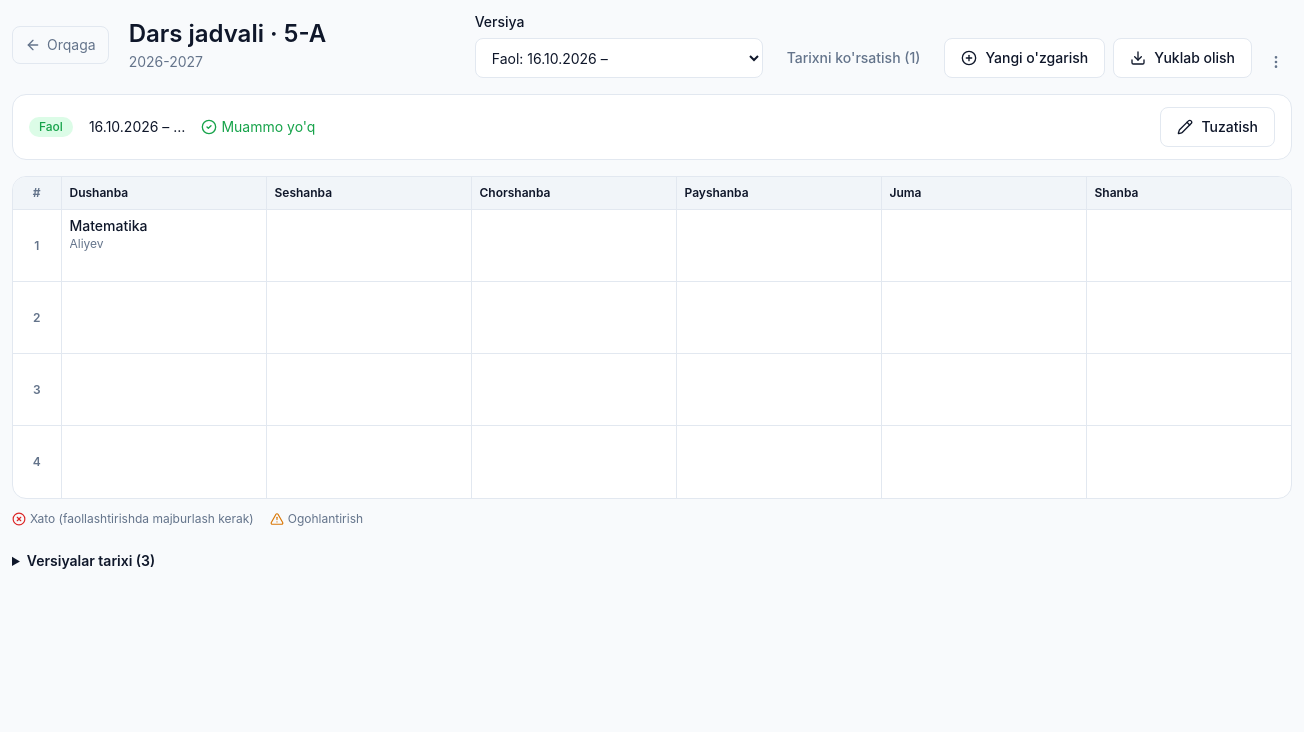
Test: ClassTimetableView: eski tarix va avtomatik o'chirish › o'chirilish sanasi: almashtirilgan versiyada doim, qoralamada 7 kun qolganda
Select "Almashtirilgan · 31.10.2026 – (yangi versiya bilan almashtirilgan)" in the dropdown with test id "version-select" at (619, 58), box [475,38,763,78]
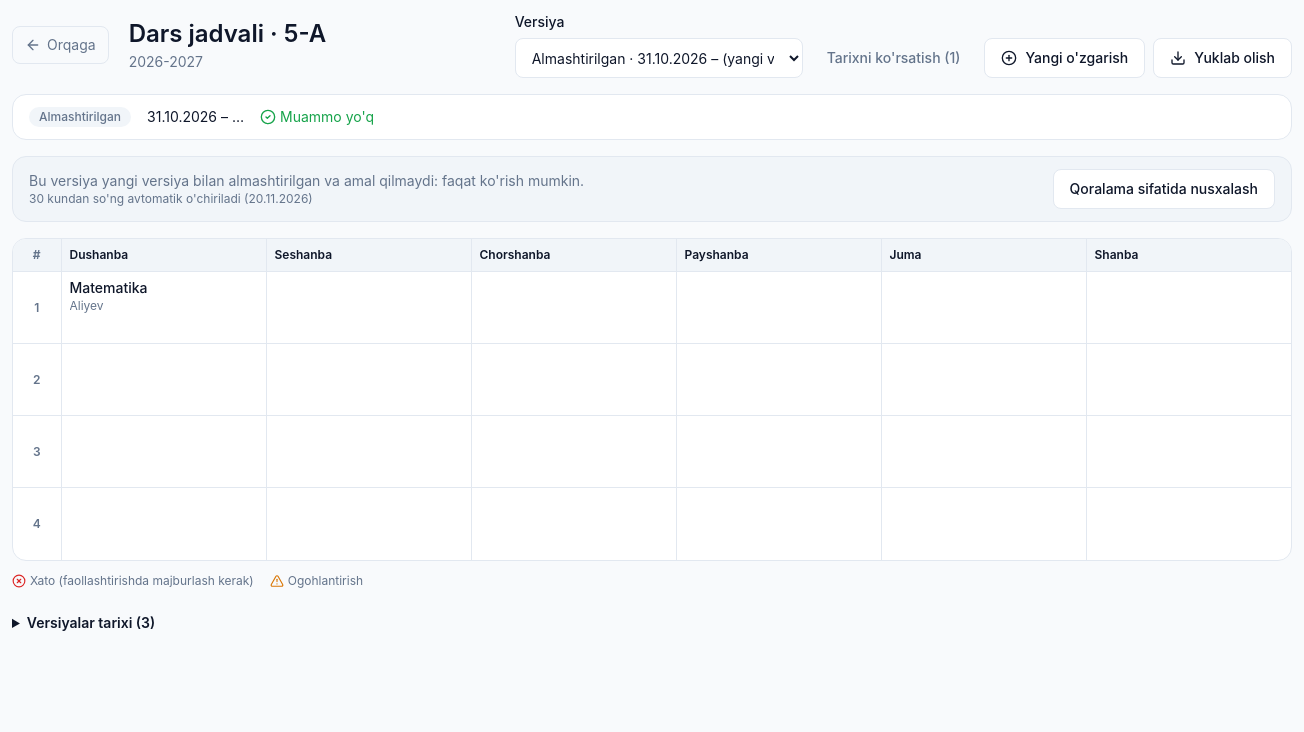
Now the text with test id "purge-notice" reads "30 kundan so'ng avtomatik o'chiriladi (20.11.2026)", box [29,191,313,206]
